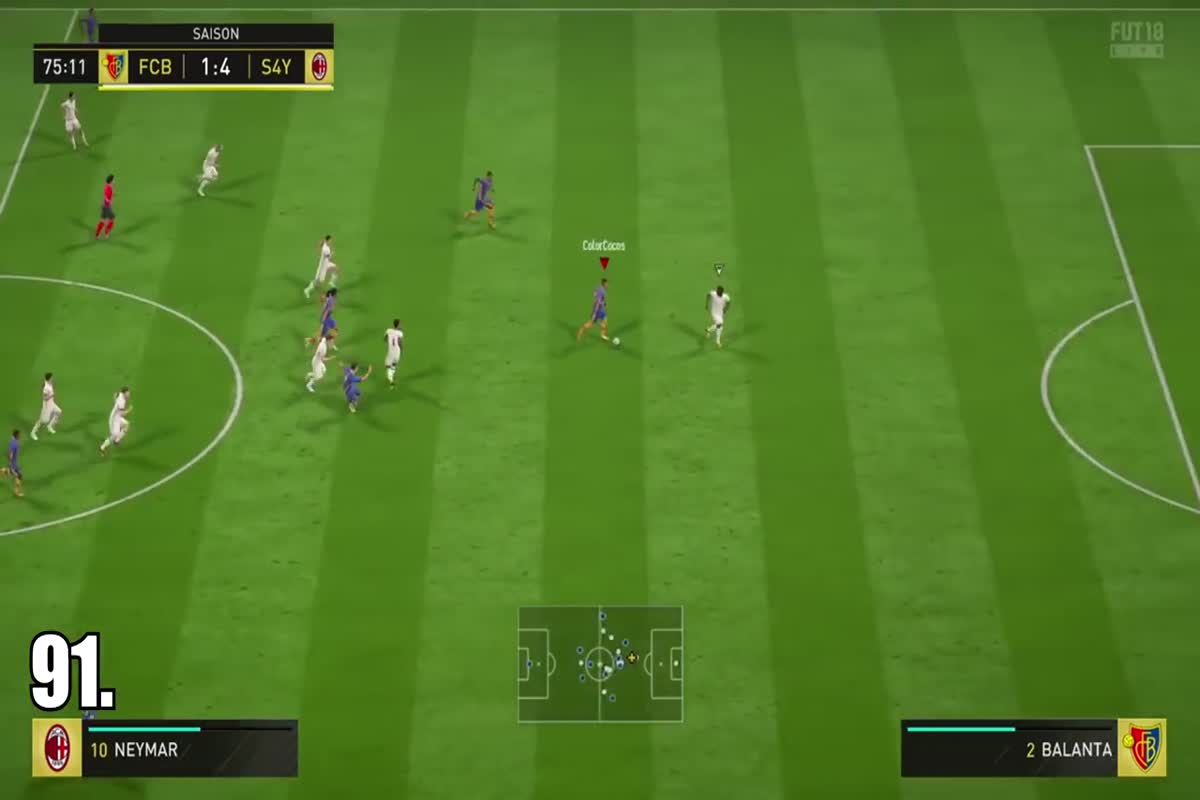ball: (604, 328, 632, 354)
